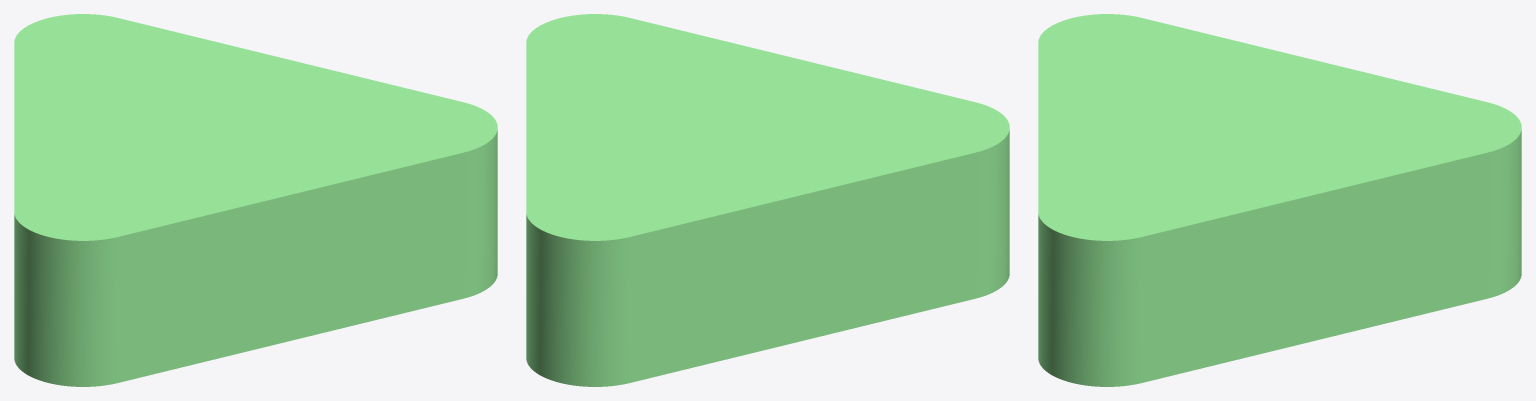
The model's file is ore.glb.
3 views of the same model, side by side, from view 1: azimuth 30°, elevation 25°; view 2: azimuth 150°, elevation 25°; view 3: azimuth 270°, elevation 25° (orthographic).
Parts seen in each view (by area): view 1: ore; view 2: ore; view 3: ore.
Boxes of the visible parts, x1,y1,x2,y2 form: ore: (14, 14, 497, 386); ore: (526, 14, 1009, 386); ore: (1038, 14, 1521, 386).
Size of the model in its own units: 11.66 by 3.5 by 10.5.
